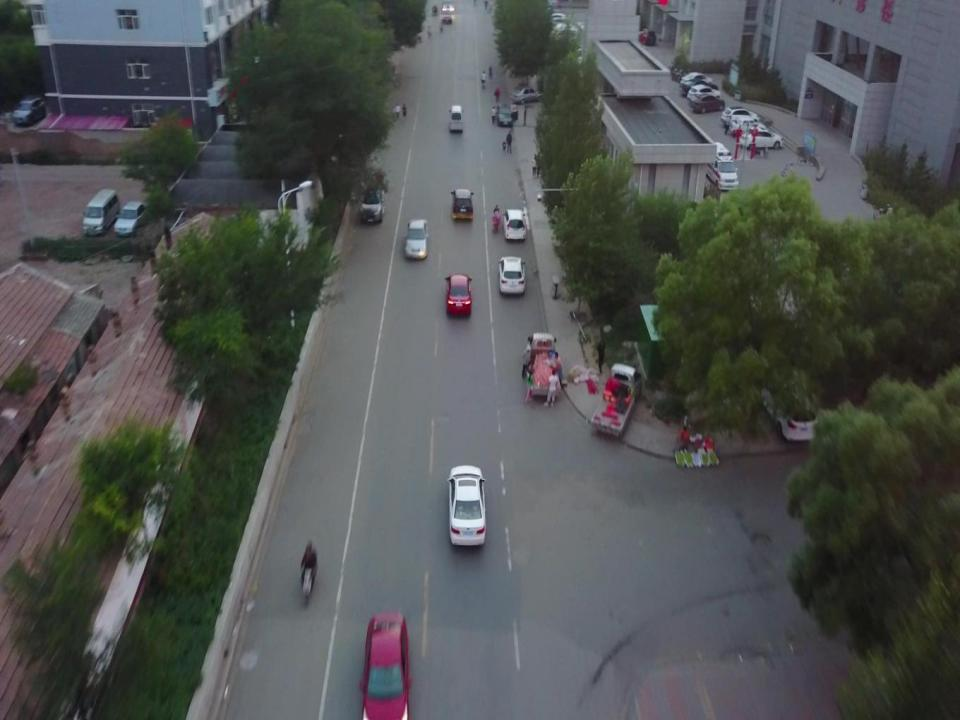car: (359, 612, 413, 720), (760, 367, 820, 445), (446, 465, 486, 550), (113, 201, 147, 238), (444, 273, 472, 316), (498, 256, 526, 296), (11, 95, 46, 127), (360, 183, 386, 224), (404, 218, 428, 261), (740, 128, 783, 150), (721, 106, 760, 128), (502, 209, 526, 242), (450, 188, 474, 221), (678, 78, 718, 97), (729, 118, 768, 137), (509, 86, 545, 106), (690, 93, 724, 113), (687, 84, 720, 104), (493, 103, 518, 127), (680, 72, 712, 90), (637, 28, 656, 47), (440, 0, 454, 13), (441, 10, 452, 25)
truck: (590, 362, 642, 439), (527, 332, 558, 399)
van: (703, 141, 739, 192), (82, 189, 120, 237), (448, 105, 464, 134)
